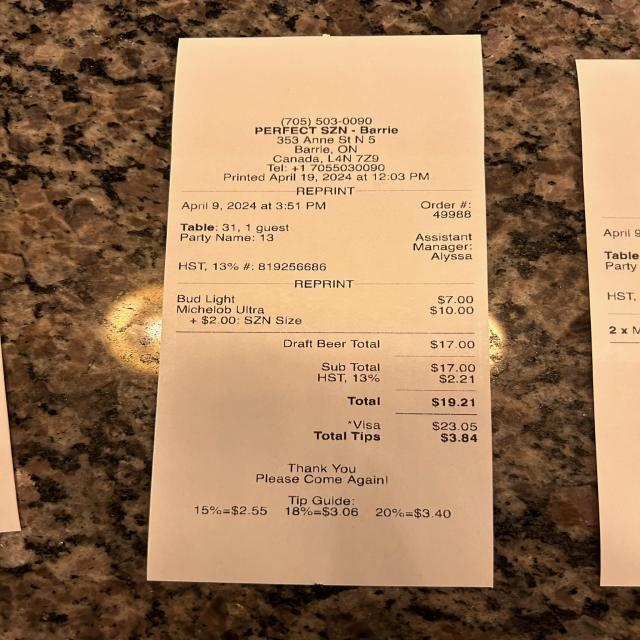item: (171, 302, 479, 319), (171, 290, 479, 307)
store_name: (247, 122, 408, 140)
total_amount: (334, 389, 484, 413)
transaction_date: (175, 197, 262, 214)
